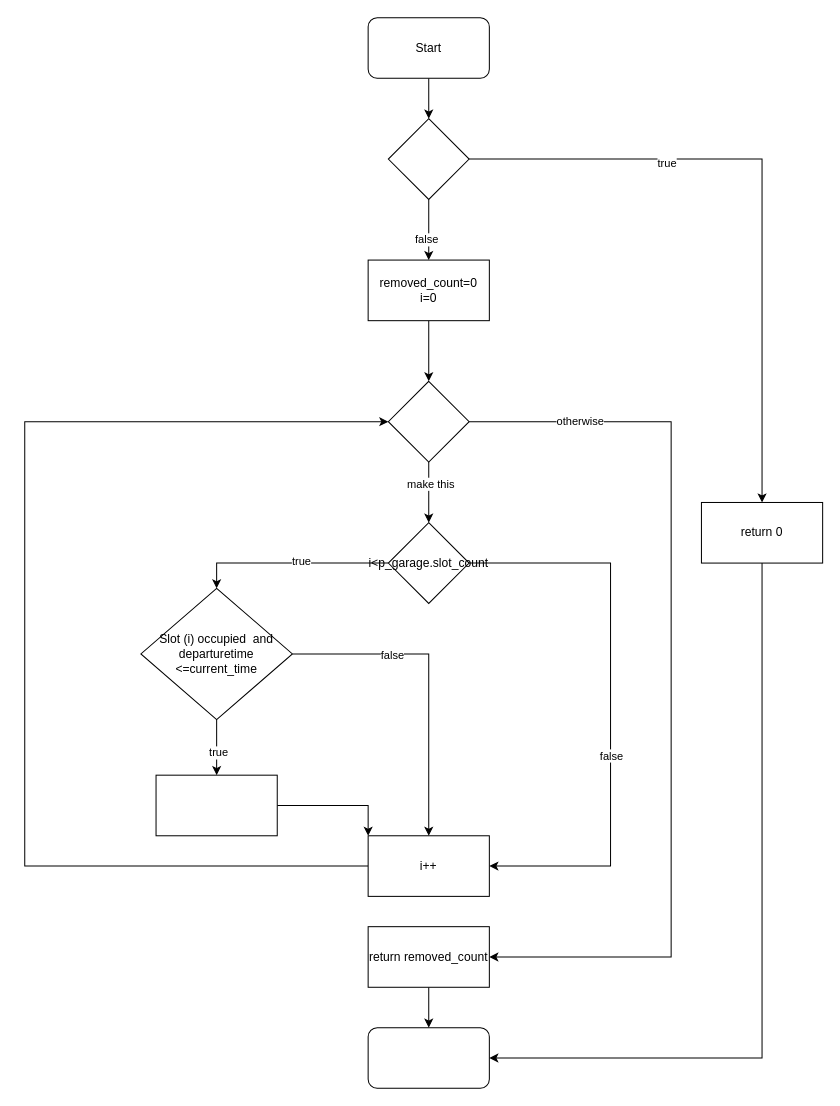
Some shapes in this 840 by 1106 pixel diagram are drawn without their labels. The centre of each missing label's shape, as x and y in pixels:
clear slot (i) occupied_count - - removed_count + +: (216,805)
End: (428,1057)
for i<slot.count: (428,421)
p_garage NULL?: (428,158)
